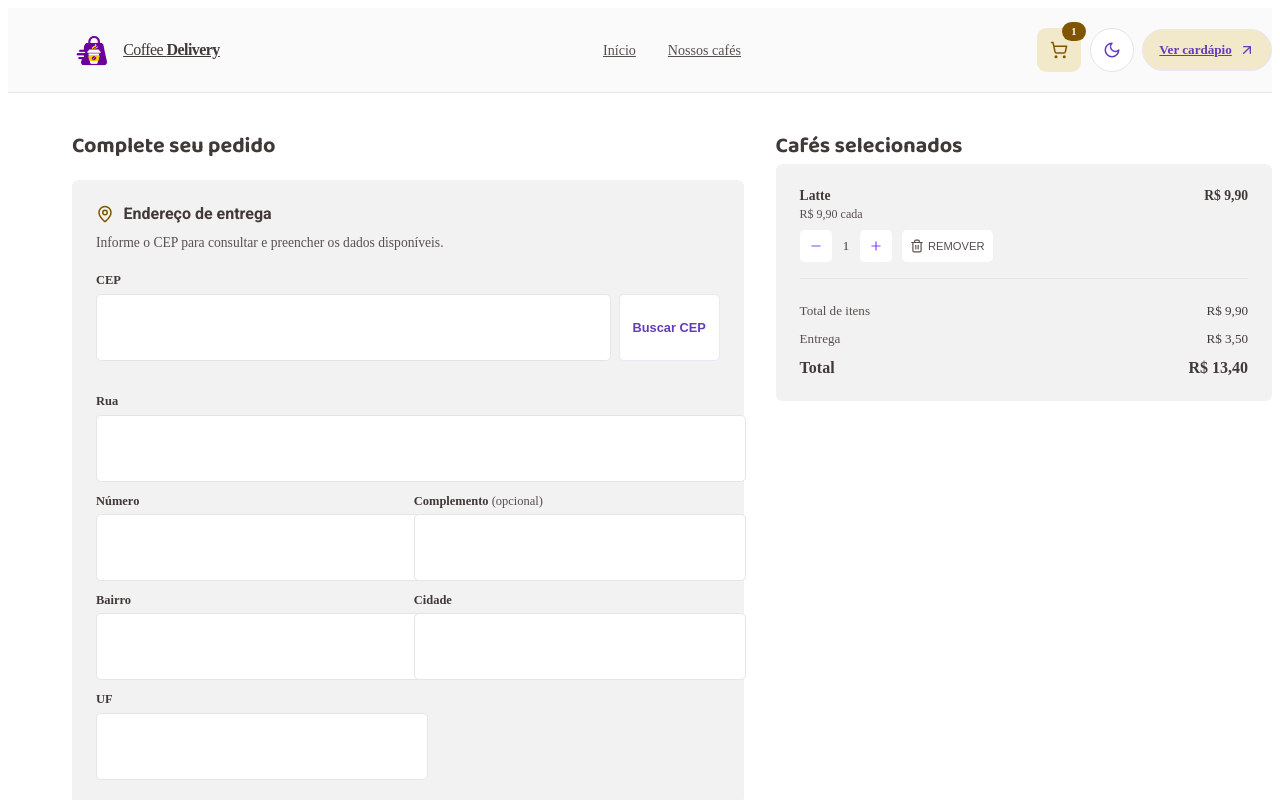
CheckoutPage › shows a connection failure and allows retrying ViaCEP
The image size is (1280, 800).
Type "01001000" into the field labelled "CEP".
click(353, 327); type("01001000")  # box [96,294,611,361]
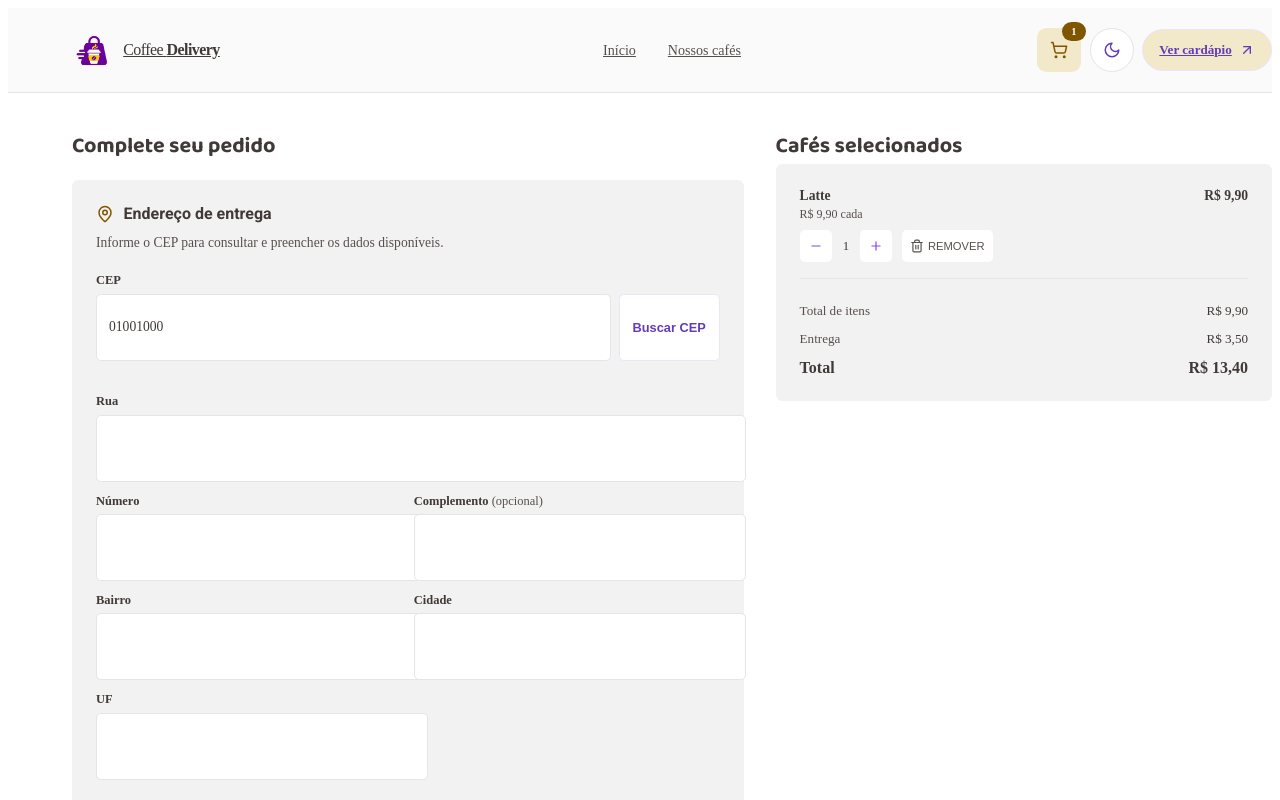
Click the button "Buscar CEP".
click(669, 327)  # box [619,294,720,361]
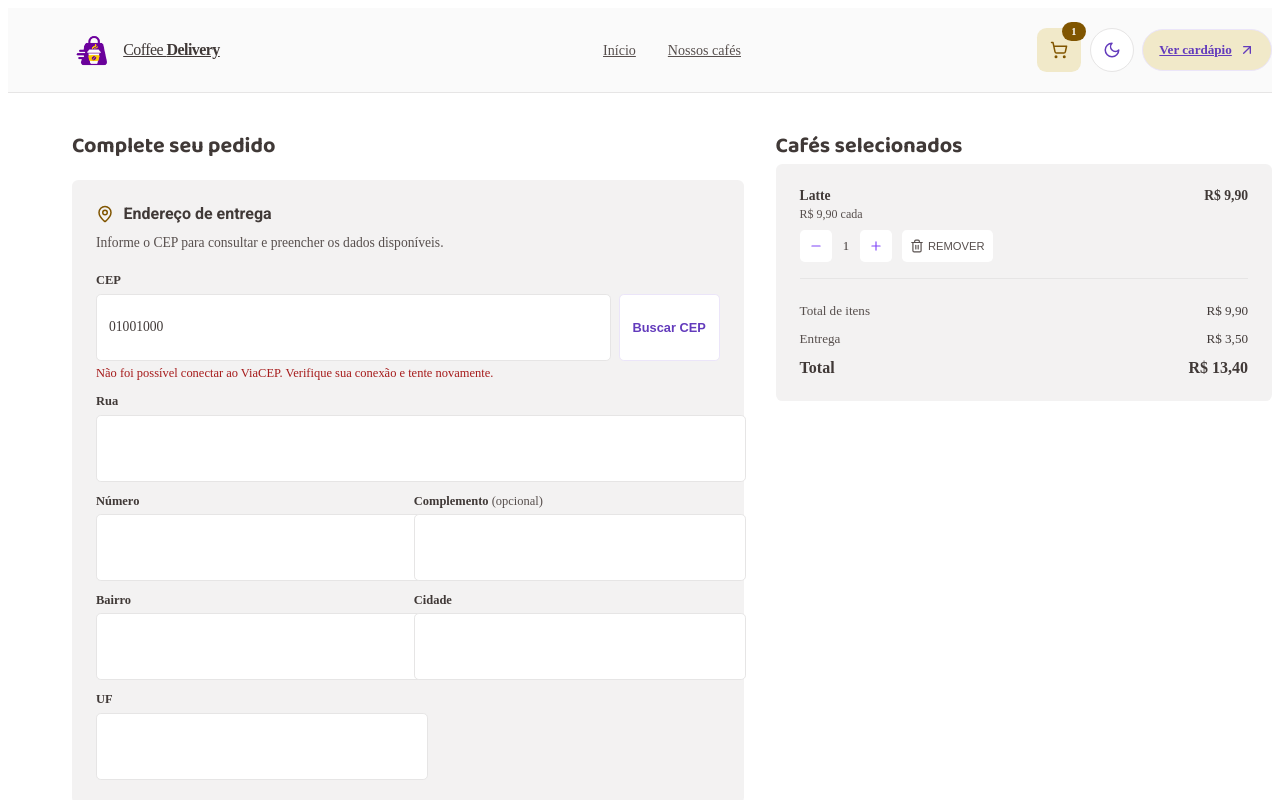
Expected: the text "Não foi possível conectar ao ViaCEP. Verifique sua conexão e tente novamente." is shown, [96,366,493,380]
